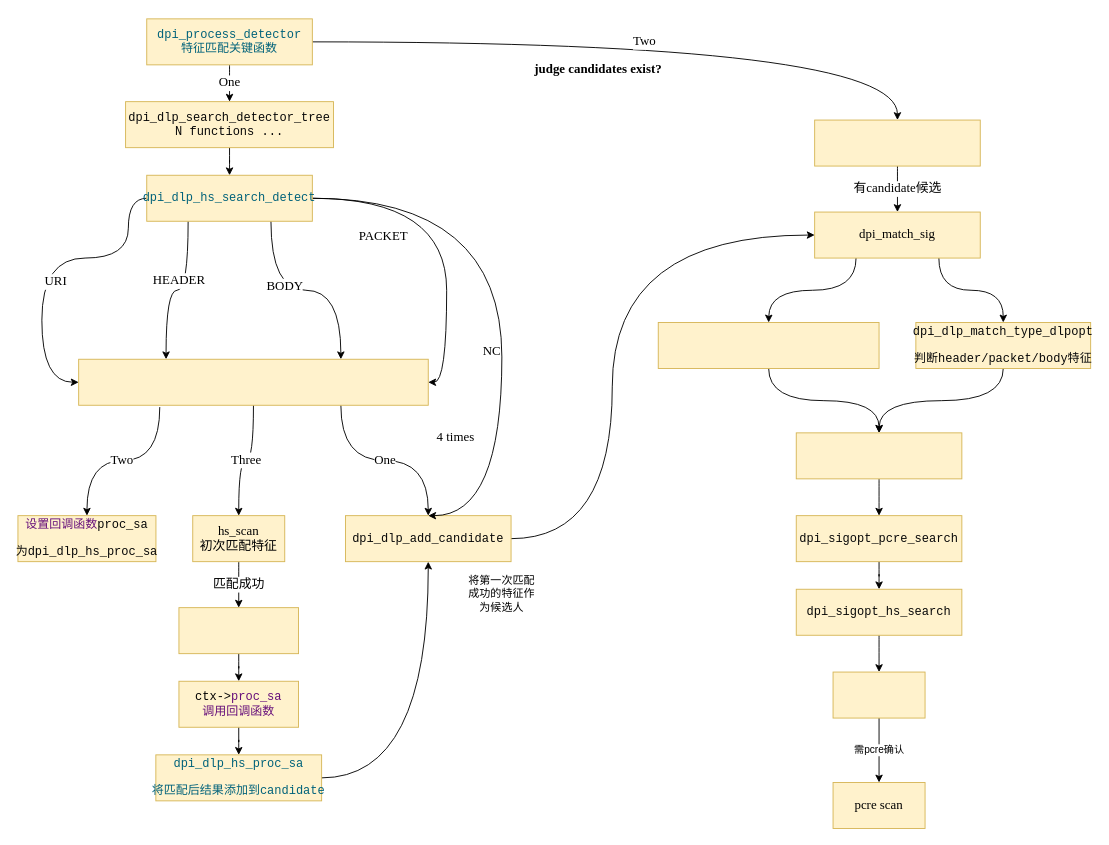
The diagram is 1109 pixels wide and 845 high, and some of its shapes have lost their labels. Here are the shapes that lost their labels. From the top down, the box of each, then its label:
(814, 119, 980, 166): dpi_sig_match_sigs
(657, 322, 879, 368): dpi_dlp_match_non_type_dlpopt 判断uri特征
(78, 358, 428, 405): dpi_dlp_hsdb_detect
(795, 432, 962, 479): sigapi->handler()
(178, 607, 299, 654): dpi_dlp_hs_onmatch
(832, 671, 925, 718): hs_scan
